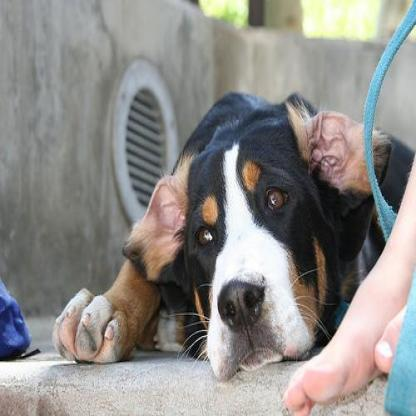Greater_Swiss_Mountain_dog: (50, 87, 414, 382)
